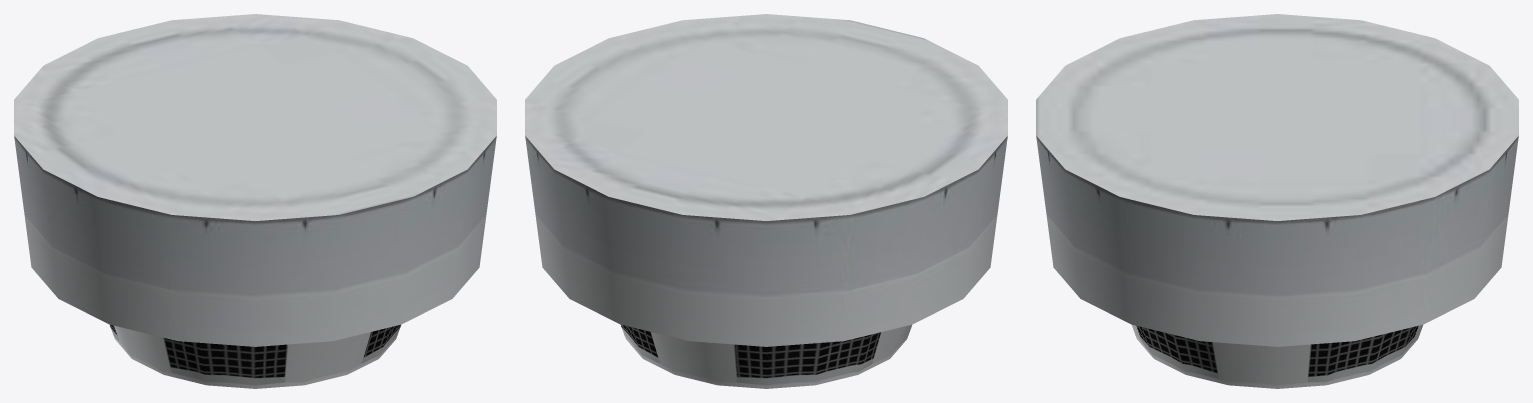
Rendered from fireSensor.gltf.
3 renders of one model, left to right at view 1: azimuth 30°, elevation 25°; view 2: azimuth 150°, elevation 25°; view 3: azimuth 270°, elevation 25°, orthographic.
Visible parts, largest first — view 1: fireSensor; view 2: fireSensor; view 3: fireSensor.
Boxes of the visible parts, x1,y1,x2,y2 form: fireSensor: (14, 14, 496, 388); fireSensor: (525, 14, 1007, 388); fireSensor: (1036, 14, 1518, 388).
Bounding box in the file's own units: 1.6 × 0.76 × 1.58.
Materials: 1 (1 with a texture image).
